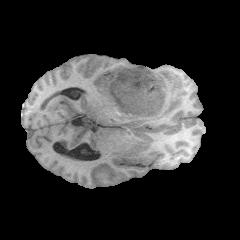glioma: (106, 66, 184, 121)
